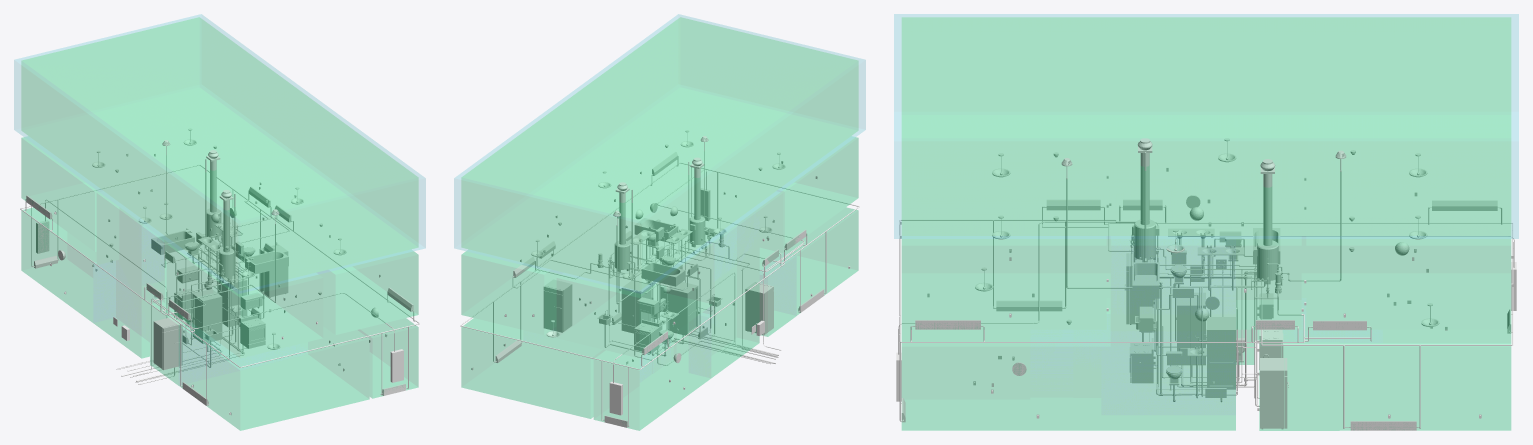
3 renders of one model, left to right at view 1: azimuth 30°, elevation 25°; view 2: azimuth 150°, elevation 25°; view 3: azimuth 270°, elevation 25°, orthographic. The views are drawn at different scales.
Visible parts, largest first — view 1: 0CRPz_SEr94Ah74P8LhwLP, 3YWx8nQAj0DhPfgLl9dDey, 0CRPz_SEr94Ah74P8LhwCz, 0CRPz_SEr94Ah74P8LhwL0, 3YWx8nQAj0DhPfgLl9dDei, 1sxdtdrqb56BEe6diZkFqS, 0CRPz_SEr94Ah74P8LhwD6, 0CRPz_SEr94Ah74P8LhwKx, 3YWx8nQAj0DhPfgLl9dDeO, 0CRPz_SEr94Ah74P8LhwD4, 0CRPz_SEr94Ah74P8LhwK$, 3YWx8nQAj0DhPfgLl9dDeh (+17 smaller); view 2: 0CRPz_SEr94Ah74P8LhwLP, 3YWx8nQAj0DhPfgLl9dDey, 0CRPz_SEr94Ah74P8LhwK$, 3YWx8nQAj0DhPfgLl9dDeh, 0CRPz_SEr94Ah74P8LhwD1, 1sxdtdrqb56BEe6diZkFq3, 0CRPz_SEr94Ah74P8LhwD4, 0CRPz_SEr94Ah74P8LhwKy, 3YWx8nQAj0DhPfgLl9dDeT, 1sxdtdrqb56BEe6diZkFqD, 0CRPz_SEr94Ah74P8LhwL0, 3YWx8nQAj0DhPfgLl9dDei (+17 smaller); view 3: 0CRPz_SEr94Ah74P8LhwLP, 3YWx8nQAj0DhPfgLl9dDey, 0CRPz_SEr94Ah74P8LhwKy, 3YWx8nQAj0DhPfgLl9dDeT, 0CRPz_SEr94Ah74P8LhwKx, 3YWx8nQAj0DhPfgLl9dDeO, 0CRPz_SEr94Ah74P8LhwD0, 0CRPz_SEr94Ah74P8LhwD5, 0CRPz_SEr94Ah74P8LhwD1, 1sxdtdrqb56BEe6diZkFq3, 1sxdtdrqb56BEe6diZkFqP, 0CRPz_SEr94Ah74P8LhwKv (+21 smaller).
Boxes of the visible parts, x1,y1,x2,y2 form: 0CRPz_SEr94Ah74P8LhwLP: (14, 14, 425, 293); 3YWx8nQAj0DhPfgLl9dDey: (22, 18, 417, 290); 0CRPz_SEr94Ah74P8LhwCz: (179, 323, 368, 430); 0CRPz_SEr94Ah74P8LhwL0: (167, 244, 322, 357); 3YWx8nQAj0DhPfgLl9dDei: (167, 244, 322, 357); 1sxdtdrqb56BEe6diZkFqS: (179, 323, 368, 429); 0CRPz_SEr94Ah74P8LhwD6: (94, 193, 153, 357); 0CRPz_SEr94Ah74P8LhwKx: (320, 252, 417, 334); 3YWx8nQAj0DhPfgLl9dDeO: (320, 252, 417, 334); 0CRPz_SEr94Ah74P8LhwD4: (22, 208, 95, 321); 0CRPz_SEr94Ah74P8LhwK$: (22, 138, 97, 251); 3YWx8nQAj0DhPfgLl9dDeh: (22, 138, 97, 251); 0CRPz_SEr94Ah74P8LhwLP: (454, 14, 865, 293); 3YWx8nQAj0DhPfgLl9dDey: (462, 18, 857, 290); 0CRPz_SEr94Ah74P8LhwK$: (557, 244, 712, 357); 3YWx8nQAj0DhPfgLl9dDeh: (557, 244, 712, 357); 0CRPz_SEr94Ah74P8LhwD1: (462, 319, 604, 418); 1sxdtdrqb56BEe6diZkFq3: (462, 319, 604, 418); 0CRPz_SEr94Ah74P8LhwD4: (594, 315, 710, 430); 0CRPz_SEr94Ah74P8LhwKy: (462, 252, 559, 334); 3YWx8nQAj0DhPfgLl9dDeT: (462, 252, 559, 334); 1sxdtdrqb56BEe6diZkFqD: (594, 320, 710, 429); 0CRPz_SEr94Ah74P8LhwL0: (782, 138, 857, 251); 3YWx8nQAj0DhPfgLl9dDei: (782, 138, 857, 250); 0CRPz_SEr94Ah74P8LhwLP: (894, 14, 1518, 238); 3YWx8nQAj0DhPfgLl9dDey: (902, 18, 1510, 235); 0CRPz_SEr94Ah74P8LhwKy: (1302, 239, 1510, 328); 3YWx8nQAj0DhPfgLl9dDeT: (1302, 239, 1510, 328); 0CRPz_SEr94Ah74P8LhwKx: (902, 239, 1109, 328); 3YWx8nQAj0DhPfgLl9dDeO: (902, 239, 1109, 328); 0CRPz_SEr94Ah74P8LhwD0: (902, 314, 1109, 429); 0CRPz_SEr94Ah74P8LhwD5: (1102, 239, 1235, 429); 0CRPz_SEr94Ah74P8LhwD1: (1340, 330, 1510, 429); 1sxdtdrqb56BEe6diZkFq3: (1340, 330, 1510, 429); 1sxdtdrqb56BEe6diZkFqP: (902, 317, 1109, 429); 0CRPz_SEr94Ah74P8LhwKv: (1236, 239, 1300, 328).
Size of the model in its own units: 8.98 by 9.76 by 17.38.
